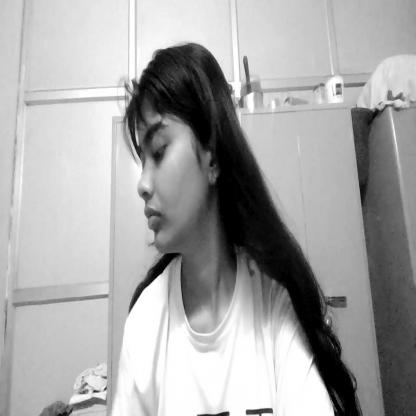Distracted: (124, 49, 231, 261)
